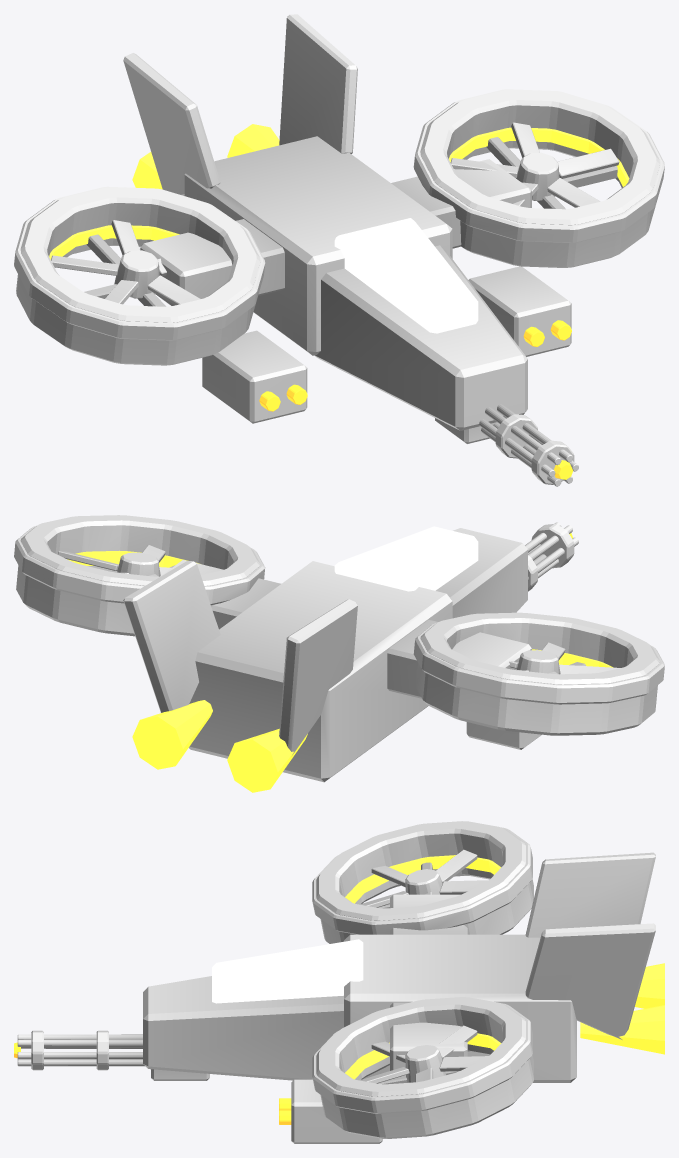
File: e4_mirage_wasp.glb
3 renders of one model, top to bottom at view 1: azimuth 30°, elevation 25°; view 2: azimuth 150°, elevation 25°; view 3: azimuth 270°, elevation 25°, orthographic. The views are drawn at different scales.
Parts seen in each view (by area): view 1: MidHull, Fan_L_Shroud, NoseHull, Fan_R_Shroud, AmberCanopy, TailFin_R, TailFin_L, RocketPod_L, Fan_L_TrimRim, Fan_R_TrimRim, RotorBoom_L, RocketPod_R (+13 smaller); view 2: MidHull, Fan_L_Shroud, Fan_R_Shroud, TailFin_R, TailFin_L, AmberCanopy, Fan_L_TrimRim, NoseHull, Fan_R_TrimRim, RotorBoom_L, RearJet_R, RearJet_L (+9 smaller); view 3: MidHull, NoseHull, Fan_R_Shroud, Fan_L_Shroud, TailFin_R, TailFin_L, AmberCanopy, Fan_R_TrimRim, Fan_L_TrimRim, RocketPod_R, RearJet_R, RotorBoom_R (+17 smaller).
Part boxes in pixels (bbox=[...]): MidHull: bbox=[184, 136, 452, 355]; Fan_L_Shroud: bbox=[16, 187, 260, 365]; NoseHull: bbox=[314, 245, 527, 430]; Fan_R_Shroud: bbox=[420, 89, 659, 267]; AmberCanopy: bbox=[334, 218, 478, 333]; TailFin_R: bbox=[279, 14, 357, 153]; TailFin_L: bbox=[123, 53, 220, 195]; RocketPod_L: bbox=[202, 330, 307, 423]; Fan_L_TrimRim: bbox=[14, 186, 265, 340]; Fan_R_TrimRim: bbox=[413, 89, 664, 242]; RotorBoom_L: bbox=[140, 219, 284, 305]; RocketPod_R: bbox=[468, 266, 571, 356]; MidHull: bbox=[189, 561, 452, 782]; Fan_L_Shroud: bbox=[416, 612, 659, 735]; Fan_R_Shroud: bbox=[16, 515, 260, 636]; TailFin_R: bbox=[123, 561, 220, 712]; TailFin_L: bbox=[279, 599, 357, 755]; AmberCanopy: bbox=[334, 526, 478, 591]; Fan_L_TrimRim: bbox=[413, 623, 664, 704]; NoseHull: bbox=[435, 528, 527, 618]; Fan_R_TrimRim: bbox=[14, 525, 265, 605]; RotorBoom_L: bbox=[387, 619, 531, 698]; RearJet_R: bbox=[132, 700, 212, 769]; RearJet_L: bbox=[227, 728, 307, 792]; MidHull: bbox=[344, 934, 576, 1082]; NoseHull: bbox=[143, 976, 343, 1080]; Fan_R_Shroud: bbox=[316, 997, 533, 1138]; Fan_L_Shroud: bbox=[316, 821, 533, 943]; TailFin_R: bbox=[525, 923, 655, 1039]; TailFin_L: bbox=[525, 852, 655, 937]; AmberCanopy: bbox=[212, 939, 363, 1003]; Fan_R_TrimRim: bbox=[312, 1003, 532, 1113]; Fan_L_TrimRim: bbox=[312, 827, 532, 934]; RocketPod_R: bbox=[291, 1079, 382, 1143]; RearJet_R: bbox=[580, 1005, 664, 1054]; RotorBoom_R: bbox=[390, 1002, 467, 1070].
Bounding box in the file's own units: 2.67 × 0.8482 × 2.7.
